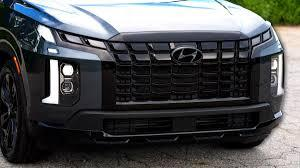hyundai: (169, 42, 205, 66)
